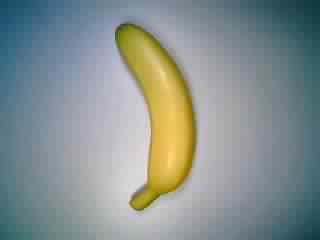banana: (110, 19, 201, 214)
